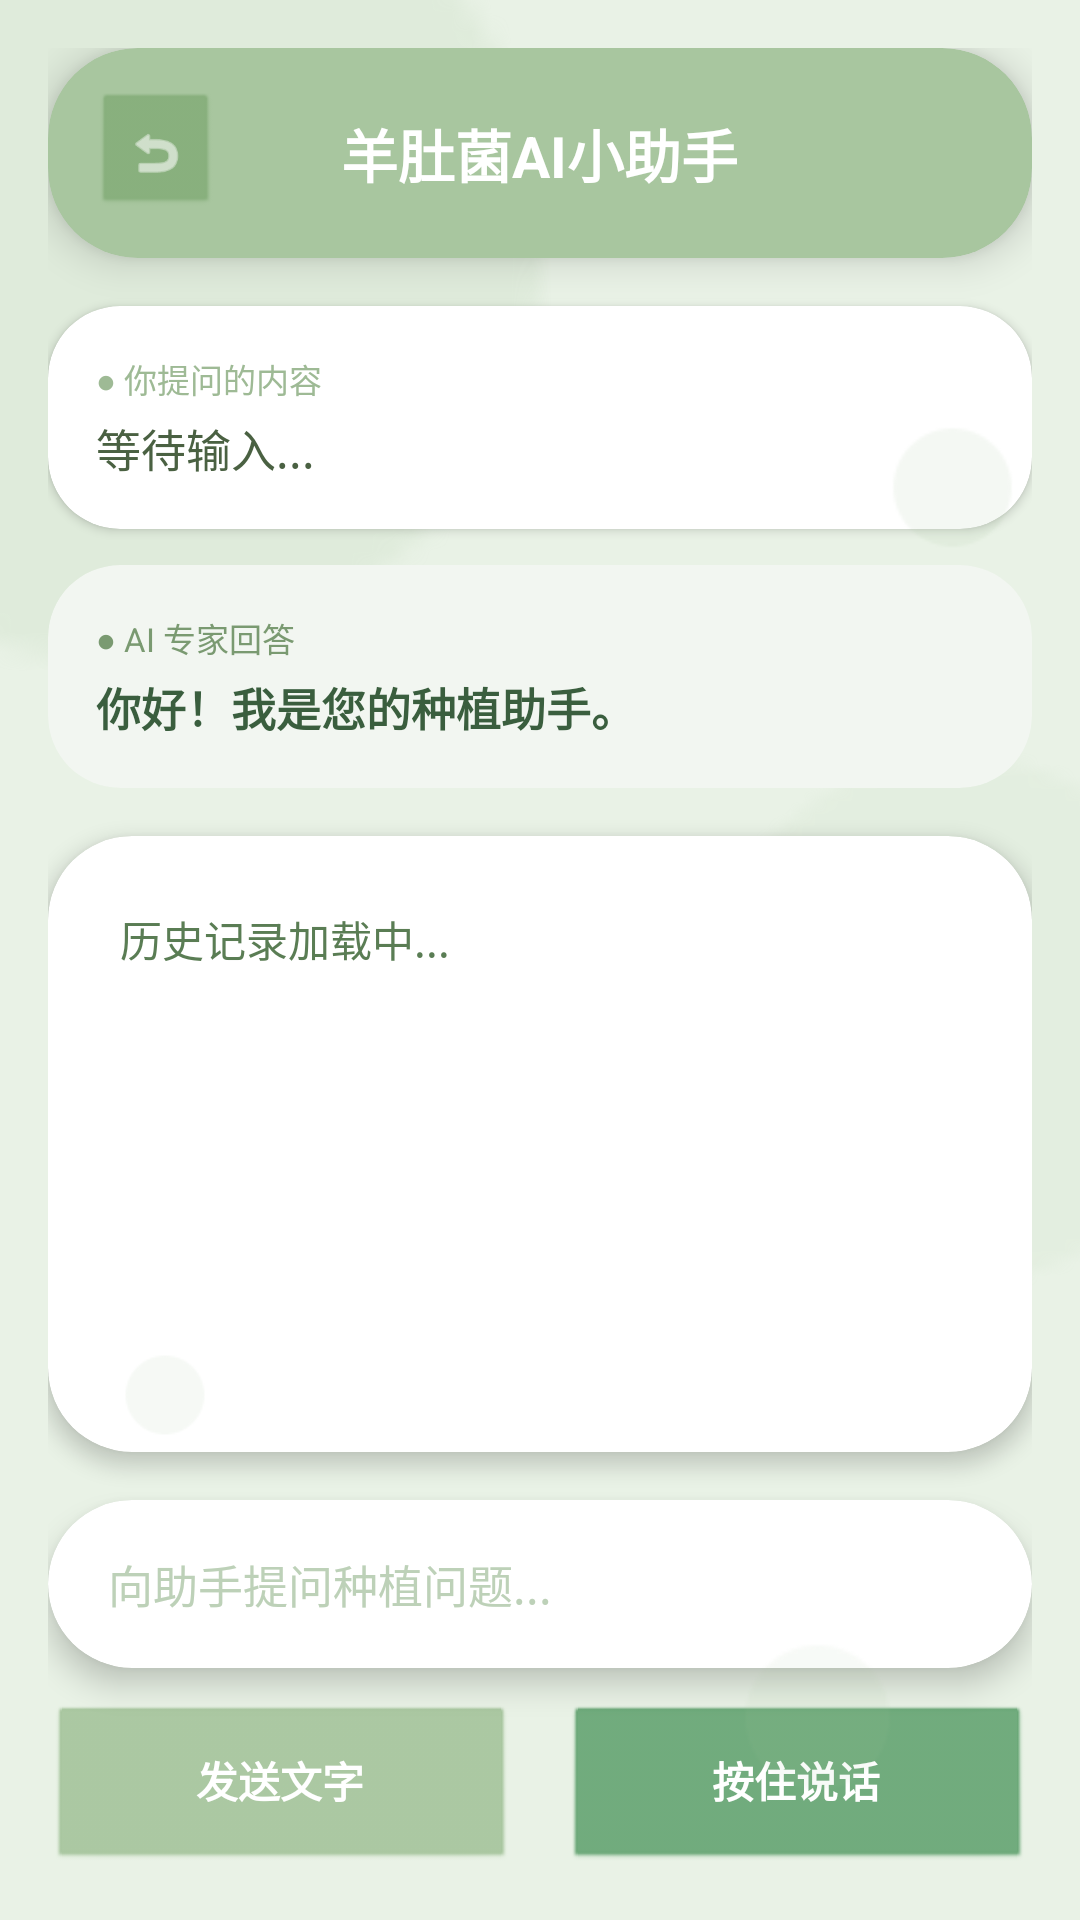

Where to tap for icons on this 1080px x 1920px app screen, as point (x, y):
revert: point (155, 148)
